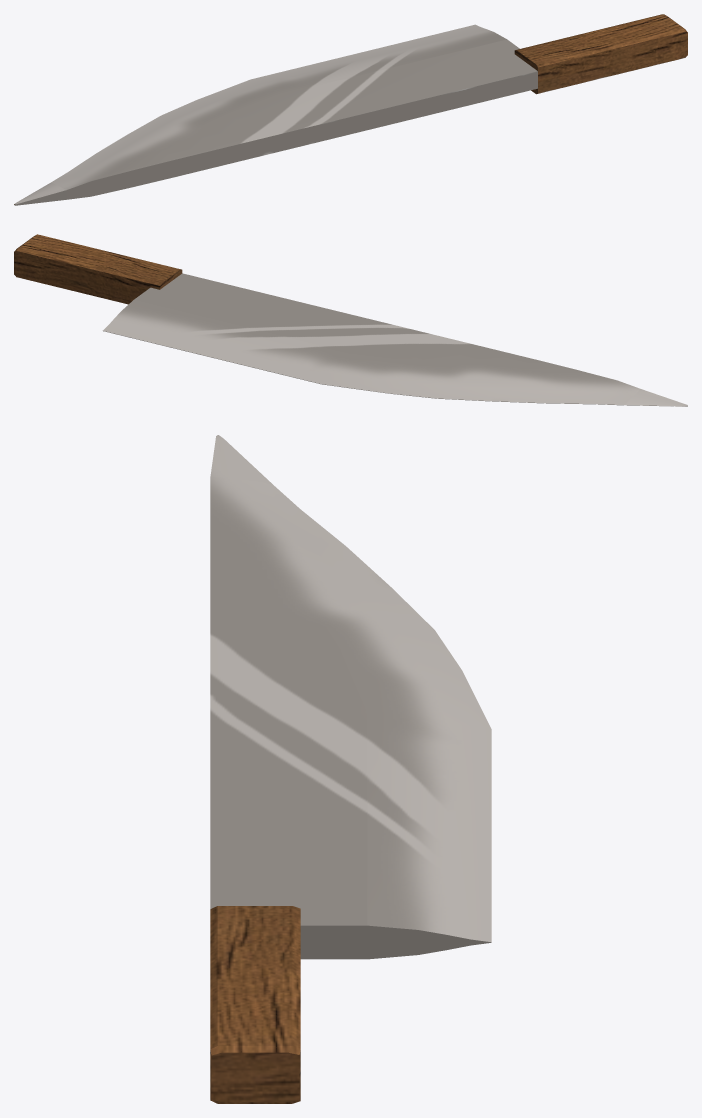
File: Knife.fbx
The picture shows the model from 3 angles, top to bottom: view 1: azimuth 30°, elevation 25°; view 2: azimuth 150°, elevation 25°; view 3: azimuth 270°, elevation 25°; orthographic projection. The views are drawn at different scales.
Parts seen in each view (by area): view 1: polySurface8, polySurface9; view 2: polySurface8, polySurface9; view 3: polySurface8, polySurface9.
Boxes of the visible parts, x1=… form: polySurface8: x1=14, y1=24, x2=537, y2=205; polySurface9: x1=514, y1=14, x2=687, y2=94; polySurface8: x1=103, y1=273, x2=687, y2=406; polySurface9: x1=14, y1=234, x2=182, y2=304; polySurface8: x1=210, y1=435, x2=491, y2=959; polySurface9: x1=210, y1=906, x2=300, y2=1103.
Size of the model in its own units: 29.88 by 1.27 by 5.56.
2 materials, 2 textured.
